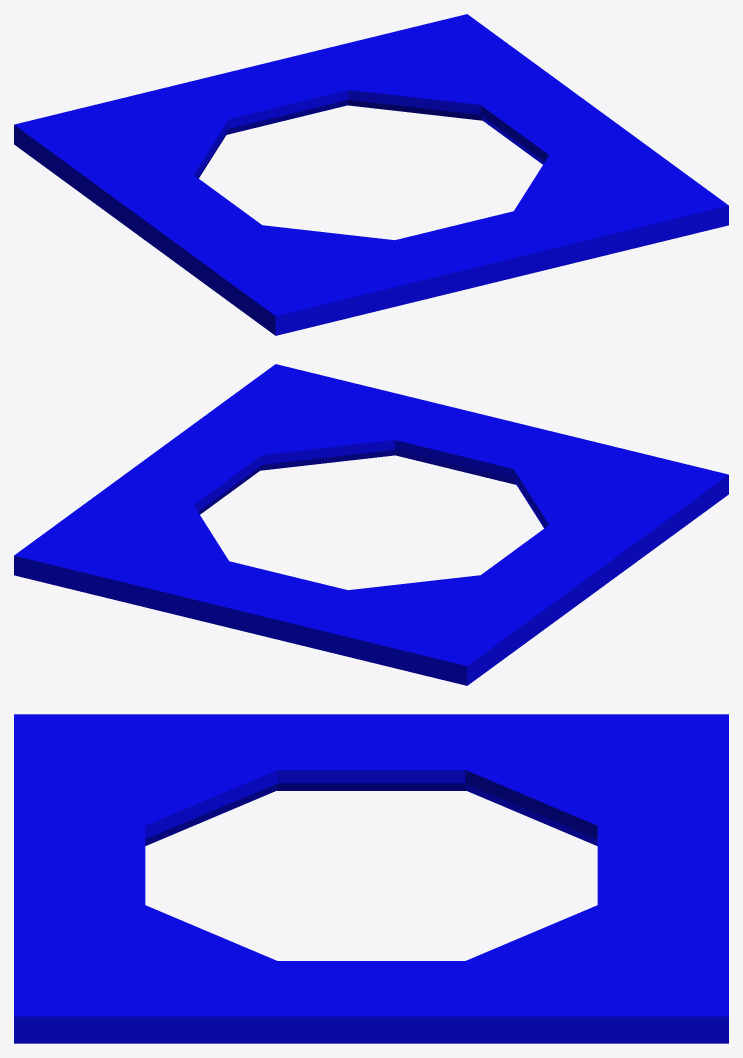
Rendered from CELLING_COUPOLE.fbx.
The picture shows the model from 3 angles, top to bottom: view 1: azimuth 30°, elevation 25°; view 2: azimuth 150°, elevation 25°; view 3: azimuth 270°, elevation 25°; orthographic projection. The views are drawn at different scales.
Visible parts, largest first — view 1: pCube85; view 2: pCube85; view 3: pCube85.
Boxes of the visible parts, x1,y1,x2,y2 form: pCube85: [14, 14, 728, 335]; pCube85: [14, 364, 728, 685]; pCube85: [14, 714, 728, 1043].
Size of the model in its own units: 1200 by 50.13 by 1200.
